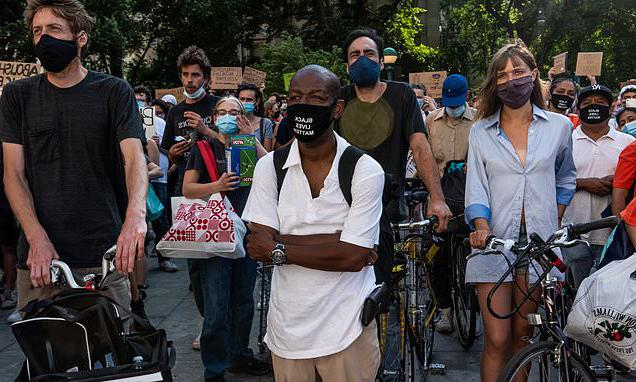mask_weared_incorrect: (181, 69, 202, 100)
with_mask: (289, 83, 329, 128), (31, 19, 67, 61), (493, 65, 532, 98), (348, 45, 377, 76), (579, 99, 609, 120), (554, 84, 577, 106), (442, 99, 468, 117), (216, 106, 238, 127), (618, 116, 635, 133), (239, 94, 254, 109), (269, 105, 282, 121), (414, 92, 423, 105)
